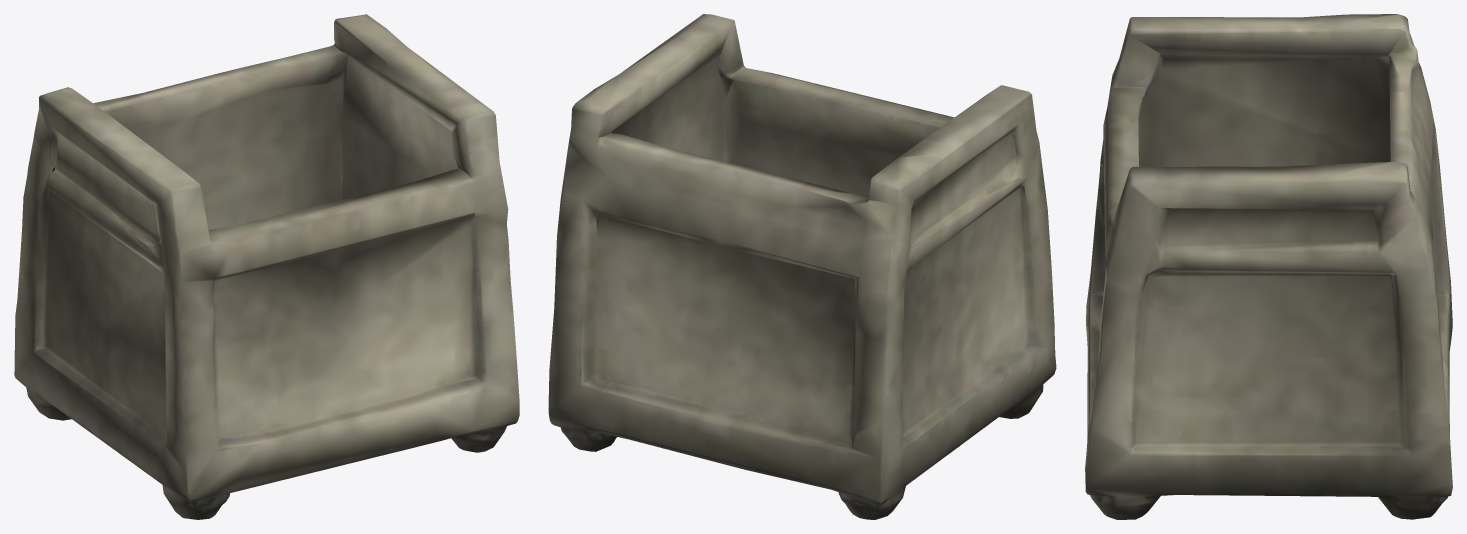
File: ancient-limestone-planter-v001.glb
3 views of the same model, side by side, from view 1: azimuth 30°, elevation 25°; view 2: azimuth 150°, elevation 25°; view 3: azimuth 270°, elevation 25° (orthographic). The views are drawn at different scales.
Parts seen in each view (by area): view 1: ancient-limestone-planter; view 2: ancient-limestone-planter; view 3: ancient-limestone-planter.
Part boxes in pixels (x1,y1,x2,y2): ancient-limestone-planter: [14, 14, 519, 519]; ancient-limestone-planter: [548, 14, 1056, 519]; ancient-limestone-planter: [1085, 14, 1452, 519].
Size of the model in its own units: 0.3763 by 0.3596 by 0.3421.
Materials: 1 (1 with a texture image).
